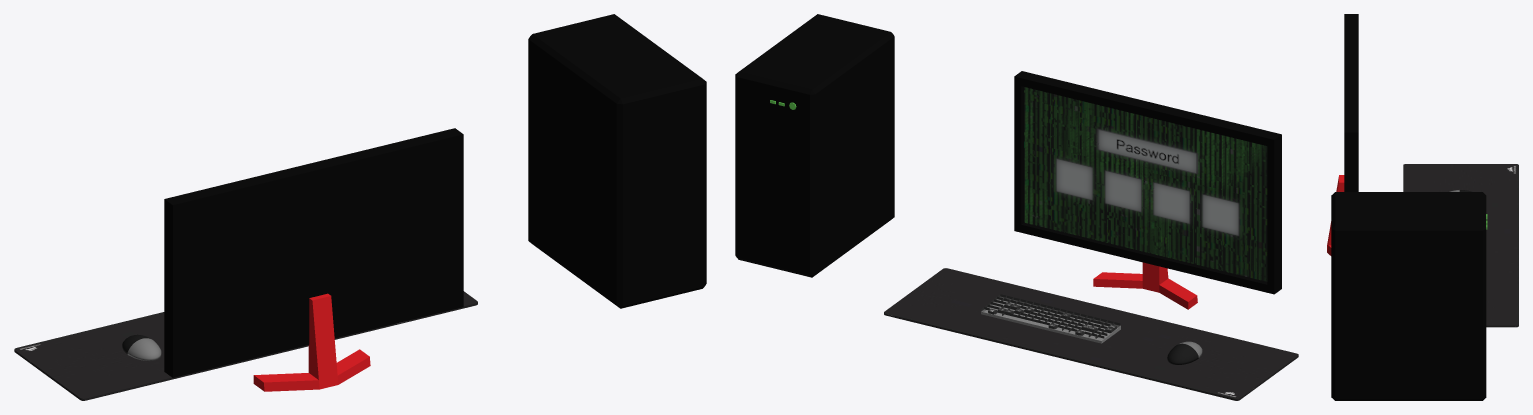
The model's file is Computer.fbx.
The picture shows the model from 3 angles, left to right: view 1: azimuth 30°, elevation 25°; view 2: azimuth 150°, elevation 25°; view 3: azimuth 270°, elevation 25°; orthographic projection. The views are drawn at different scales.
Visible parts, largest first — view 1: Cube.014, Cylinder.004, Cube.005, Sphere; view 2: Cube.014, Cylinder.004, Cube.005, Cube.004, Cube.001, Sphere; view 3: Cylinder.004, Cube.005, Cube.014.
Part boxes in pixels (x1=…): Cube.014: x1=164, y1=128, x2=463, y2=391; Cylinder.004: x1=528, y1=14, x2=706, y2=308; Cube.005: x1=14, y1=291, x2=477, y2=400; Sphere: x1=122, y1=334, x2=161, y2=360; Cube.014: x1=1014, y1=71, x2=1281, y2=309; Cylinder.004: x1=735, y1=14, x2=894, y2=277; Cube.005: x1=884, y1=268, x2=1298, y2=400; Cube.004: x1=981, y1=294, x2=1120, y2=338; Cube.001: x1=981, y1=296, x2=1120, y2=343; Sphere: x1=1167, y1=341, x2=1202, y2=364; Cylinder.004: x1=1331, y1=192, x2=1487, y2=400; Cube.005: x1=1403, y1=164, x2=1518, y2=327; Cube.014: x1=1327, y1=14, x2=1358, y2=255.
Bounding box in the file's own units: 401 × 140 × 137.
Materials: 10 (3 with a texture image).
